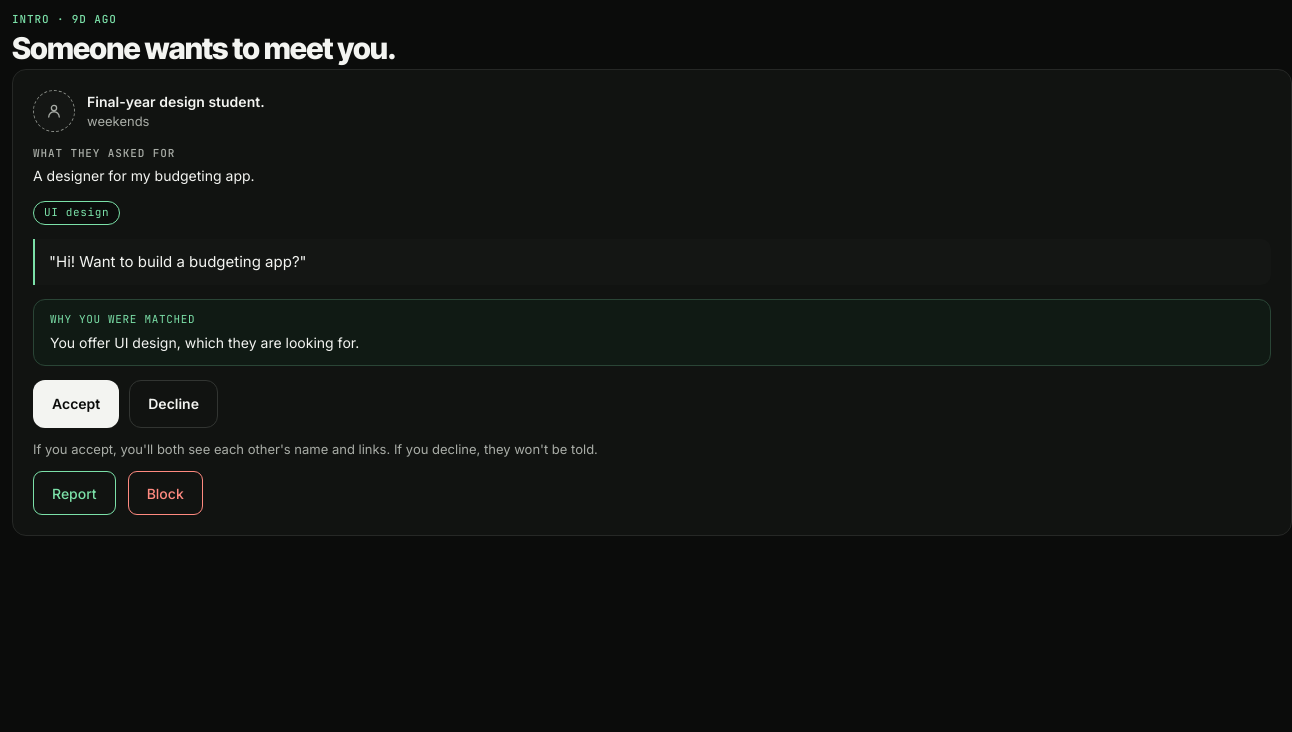
Test case: IntroCard › tells Home's inbox to re-fetch after an answer, not after a failed one
Click the button "Accept": (76, 404) [33,380,119,428]
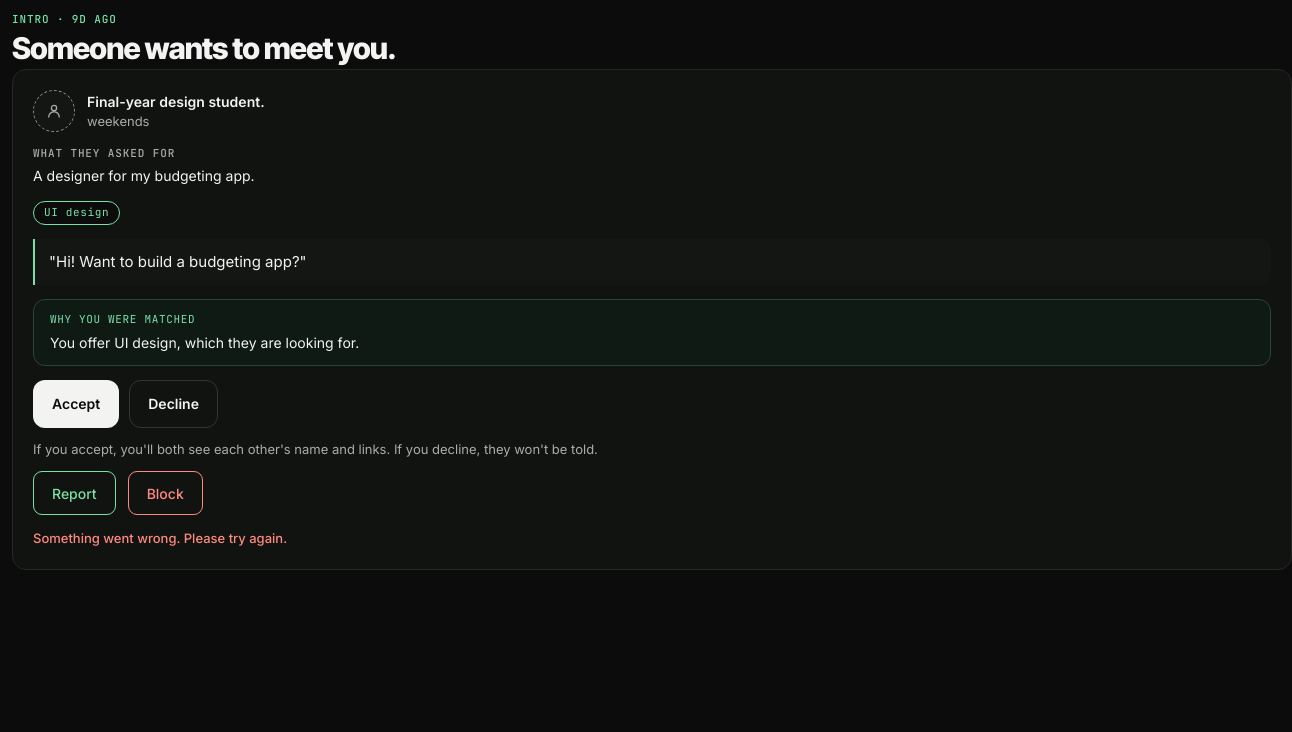
Check: the message "Something went wrong. Please try again." is shown, box [33,530,287,546]
Click the button "Accept": (76, 404) [33,380,119,428]
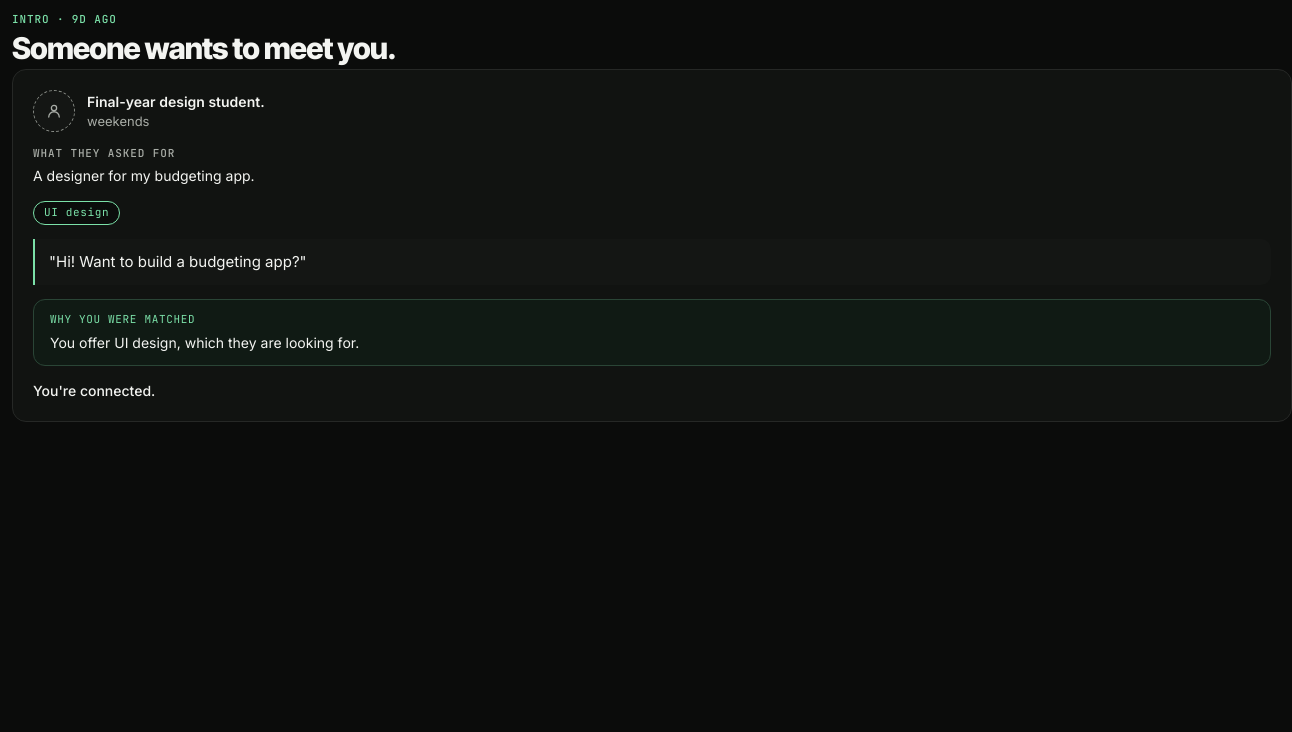
Check: the text "You're connected." is shown, box [33,382,155,399]
